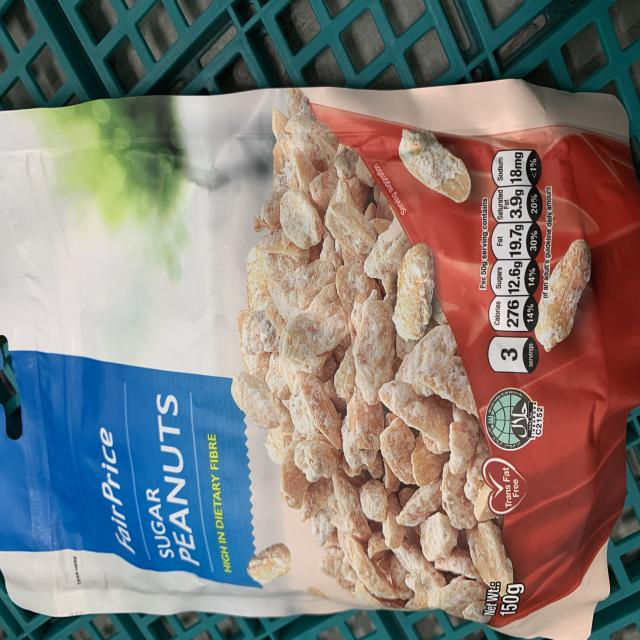object_name: (1, 107, 632, 634)
